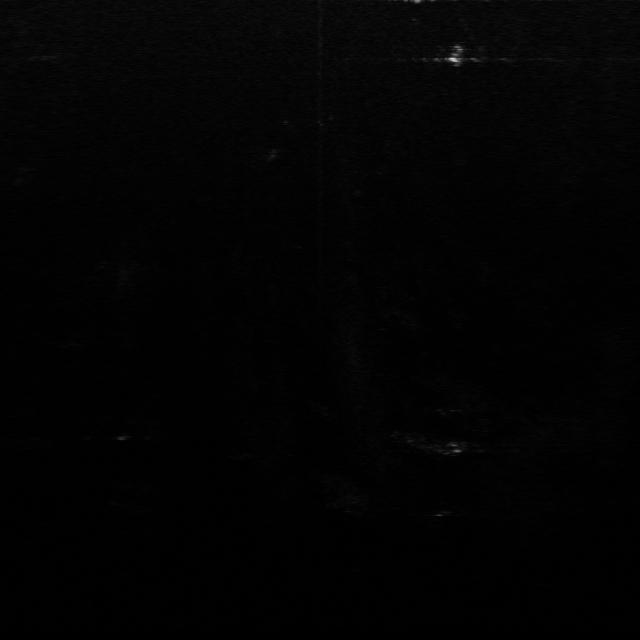rov: (443, 41, 469, 65)
